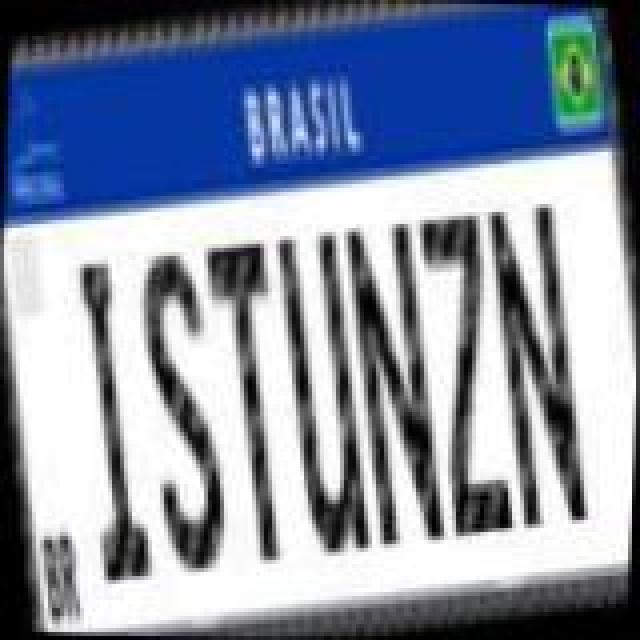I: (52, 250, 168, 590)
N: (332, 214, 460, 554), (472, 194, 600, 534)
S: (116, 242, 240, 578)
T: (190, 232, 314, 568)
U: (262, 222, 386, 558)
Z: (406, 206, 530, 546)
